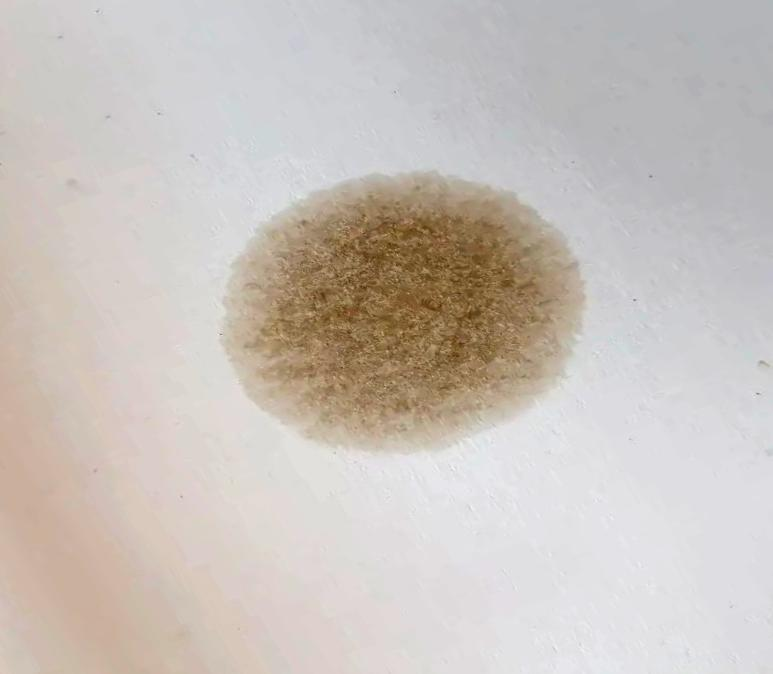stain: (210, 157, 595, 462)
